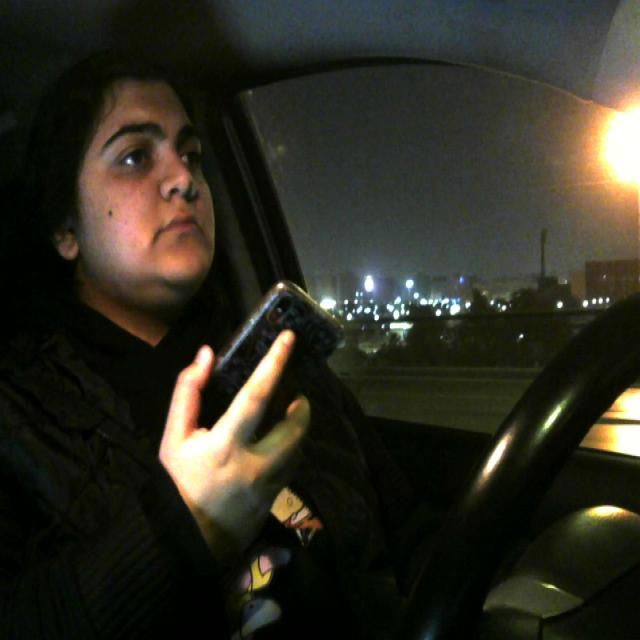mobile use: (163, 278, 354, 491)
